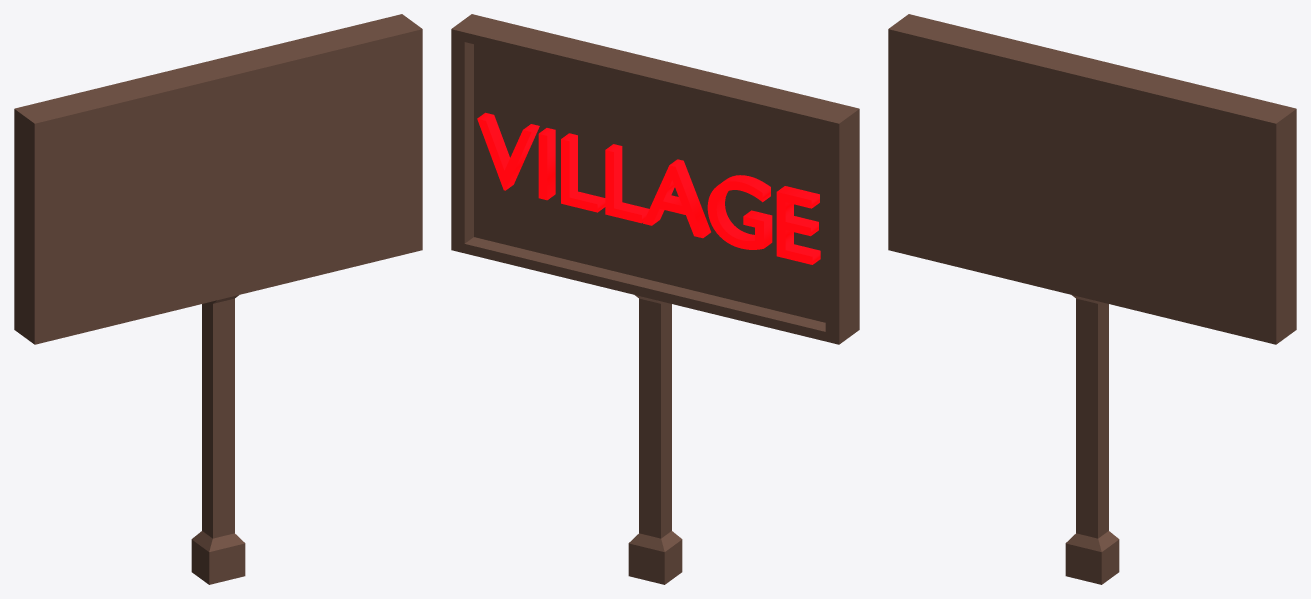
The model's file is VillageSign_A.fbx.
The picture shows the model from 3 angles, left to right: view 1: azimuth 30°, elevation 25°; view 2: azimuth 150°, elevation 25°; view 3: azimuth 330°, elevation 25°; orthographic projection.
Visible parts, largest first — view 1: Cube.056; view 2: Cube.056; view 3: Cube.056.
Boxes of the visible parts, x1=… form: Cube.056: x1=14, y1=14, x2=422, y2=584; Cube.056: x1=451, y1=14, x2=859, y2=584; Cube.056: x1=888, y1=14, x2=1296, y2=584.
Bounding box in the file's own units: 365 × 454 × 33.65.
